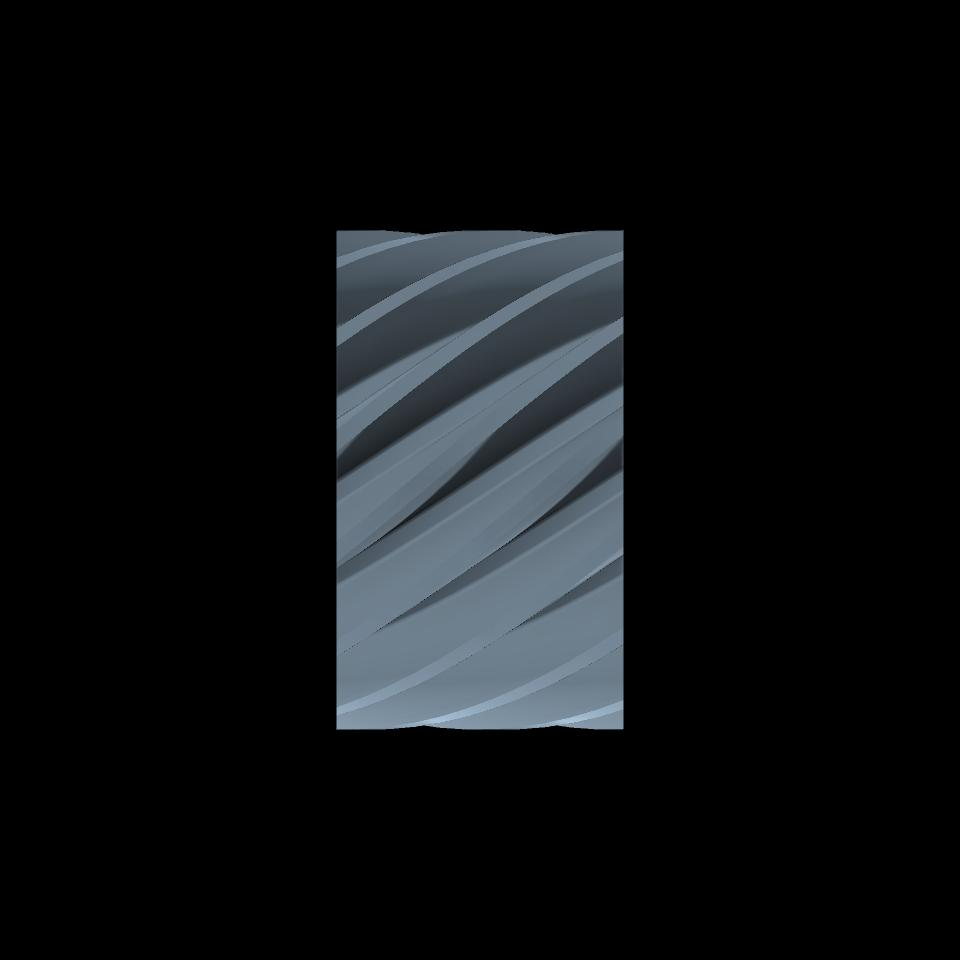Helical: (336, 230, 623, 729)
